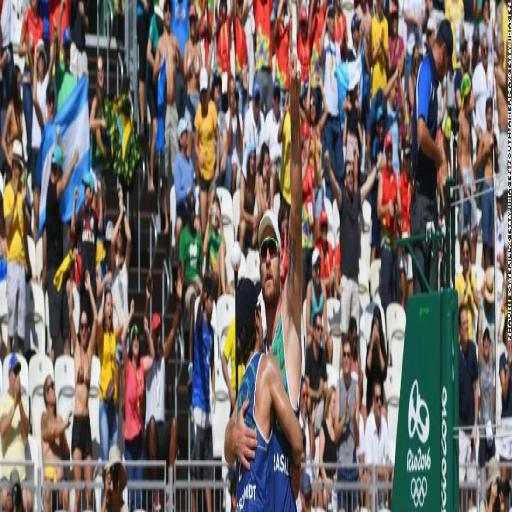person: (259, 48, 301, 415), (236, 279, 302, 510), (325, 152, 376, 333), (411, 21, 453, 235), (42, 145, 78, 362), (145, 272, 182, 465), (153, 0, 183, 233), (3, 139, 29, 353), (67, 273, 96, 461), (121, 300, 154, 462), (191, 275, 216, 480), (70, 172, 103, 321), (319, 3, 344, 183), (97, 288, 123, 461), (194, 68, 220, 237), (377, 133, 401, 311), (18, 0, 42, 165), (333, 335, 359, 483), (457, 74, 477, 263), (0, 354, 29, 478), (475, 97, 496, 268), (459, 305, 478, 481), (306, 80, 327, 237), (146, 0, 163, 191), (41, 375, 71, 483), (179, 191, 202, 324), (306, 249, 332, 360), (174, 117, 195, 248), (455, 234, 480, 338), (365, 381, 389, 480), (263, 80, 286, 183), (478, 328, 495, 467), (302, 122, 315, 299), (365, 308, 387, 411), (90, 55, 110, 168), (253, 0, 273, 113), (203, 197, 226, 295), (495, 38, 509, 196), (305, 313, 327, 413), (472, 35, 493, 139), (319, 388, 337, 509), (2, 65, 23, 168), (343, 87, 363, 188), (239, 143, 257, 252), (273, 0, 291, 108), (299, 378, 318, 478), (136, 0, 151, 126), (369, 0, 388, 98), (29, 107, 43, 239), (404, 0, 426, 83), (445, 0, 471, 69), (227, 80, 243, 191), (56, 28, 76, 111), (315, 210, 334, 297), (102, 445, 127, 511), (214, 0, 235, 76), (243, 81, 264, 155), (256, 143, 275, 224), (70, 0, 89, 79), (479, 266, 496, 353), (221, 316, 236, 412), (479, 458, 505, 511), (369, 91, 385, 174), (278, 99, 290, 207), (454, 38, 470, 115), (400, 143, 413, 237), (297, 5, 311, 90), (389, 0, 405, 74), (499, 329, 511, 424), (405, 45, 420, 116), (6, 468, 24, 511), (478, 0, 492, 47), (300, 469, 312, 511), (114, 318, 117, 327)
